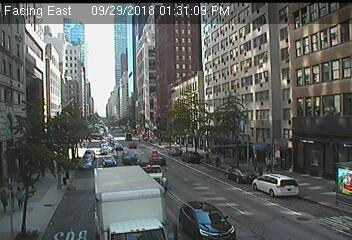car: (94, 167, 169, 240), (179, 203, 236, 240), (252, 173, 299, 198), (226, 166, 254, 184), (183, 151, 200, 164), (150, 153, 166, 166), (122, 152, 138, 164), (79, 159, 94, 169), (102, 156, 117, 166), (84, 150, 95, 159)
